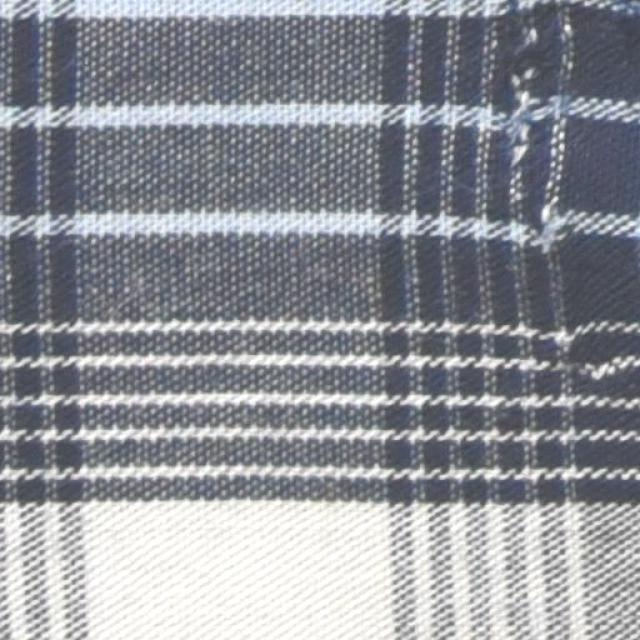Snag: (488, 7, 559, 223)
